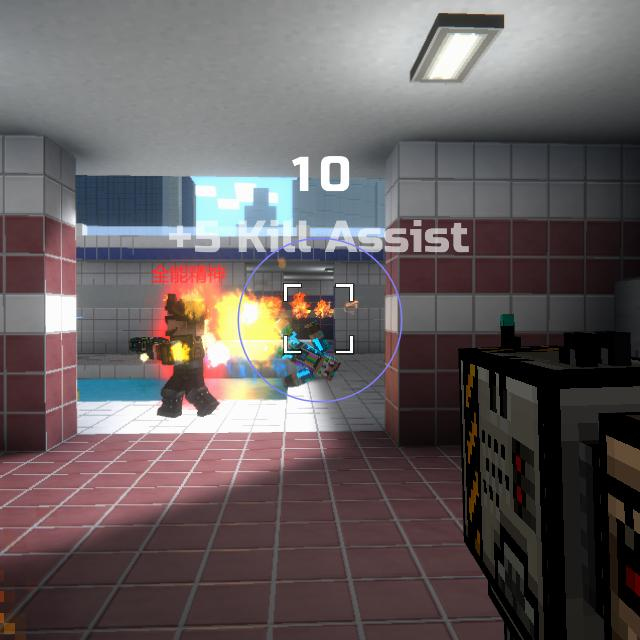Enemy: (146, 301, 220, 418)
